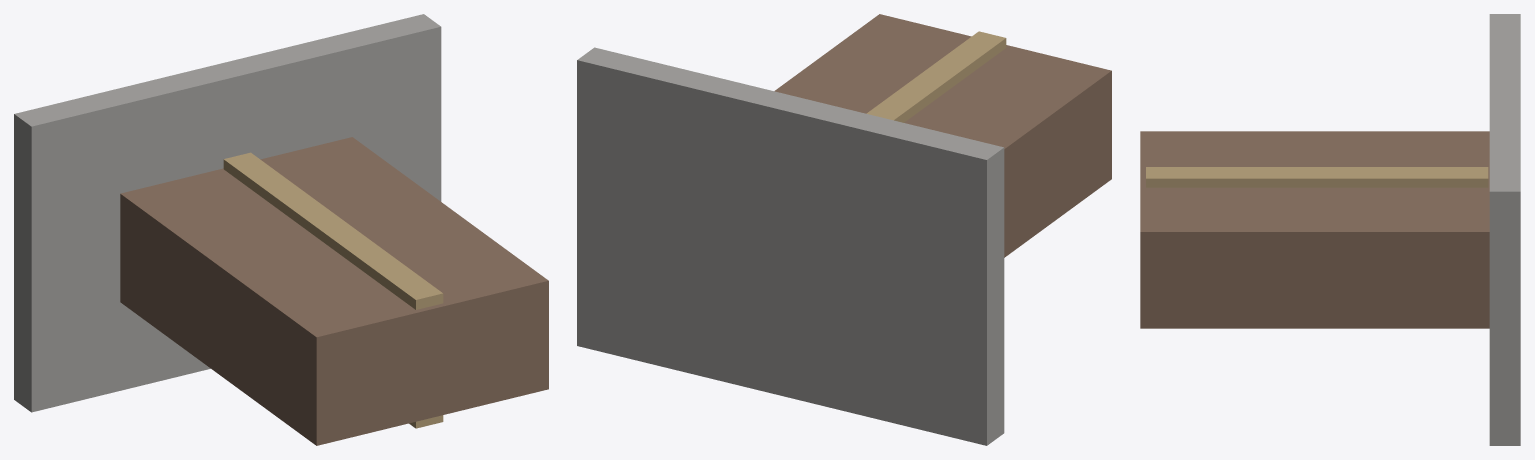
3 views of the same model, side by side, from view 1: azimuth 30°, elevation 25°; view 2: azimuth 150°, elevation 25°; view 3: azimuth 270°, elevation 25° (orthographic). The views are drawn at different scales.
Parts seen in each view (by area): view 1: H13_part_1, H13_part_0, H13_part_2; view 2: H13_part_0, H13_part_1, H13_part_2; view 3: H13_part_1, H13_part_0, H13_part_2.
Part boxes in pixels (x1=…): H13_part_1: x1=120, y1=137, x2=548, y2=445; H13_part_0: x1=14, y1=14, x2=441, y2=412; H13_part_2: x1=223, y1=152, x2=443, y2=428; H13_part_0: x1=577, y1=47, x2=1004, y2=445; H13_part_1: x1=774, y1=14, x2=1111, y2=257; H13_part_2: x1=866, y1=31, x2=1006, y2=122; H13_part_1: x1=1140, y1=131, x2=1489, y2=328; H13_part_0: x1=1489, y1=14, x2=1520, y2=445; H13_part_2: x1=1146, y1=167, x2=1488, y2=187.
Bounding box in the file's own units: 1.5 × 1 × 1.36.
